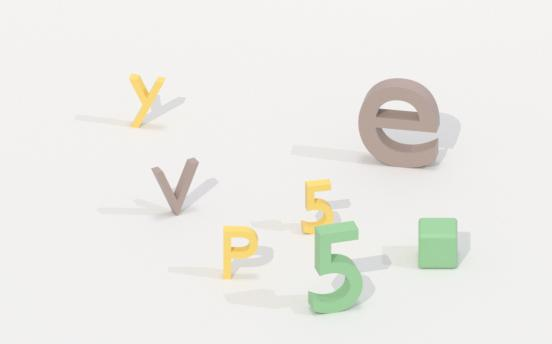5: (308, 218, 366, 316), (297, 178, 339, 239)
Y: (126, 72, 169, 128)
e: (354, 78, 446, 169)
hop: (413, 215, 462, 272)
p: (218, 222, 262, 284)
v: (148, 159, 203, 220)
